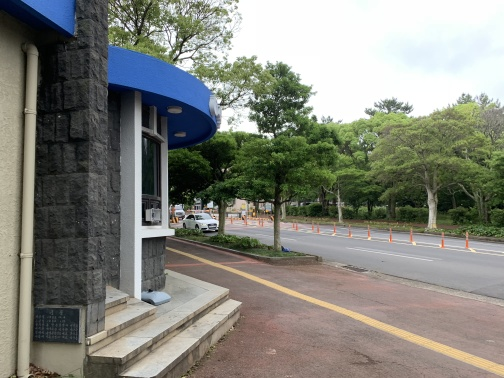Security Office: (26, 18, 243, 374)
